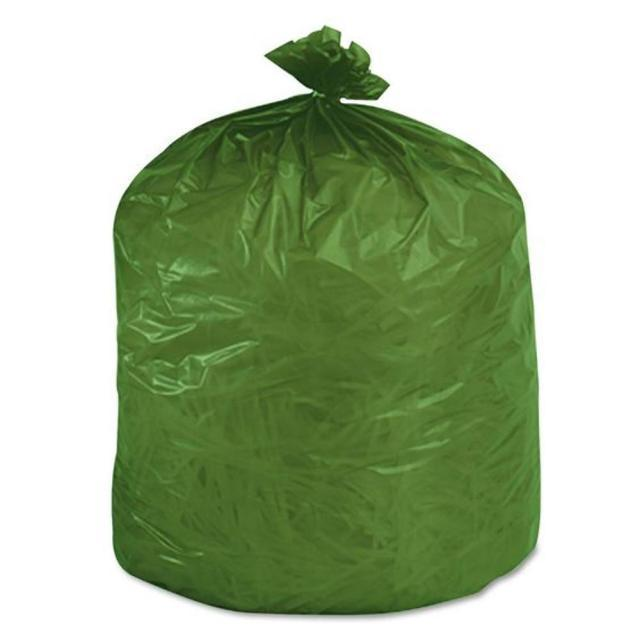Garbage_Bag: (108, 32, 540, 615)
